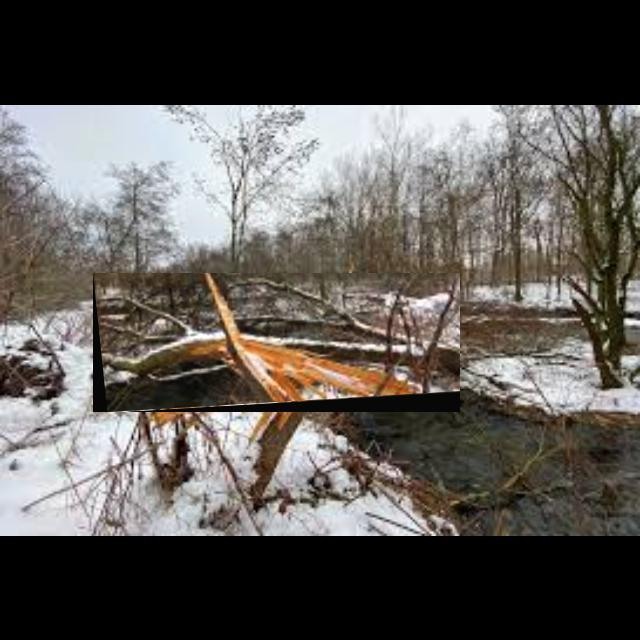fallen_tree: (93, 273, 461, 413)
